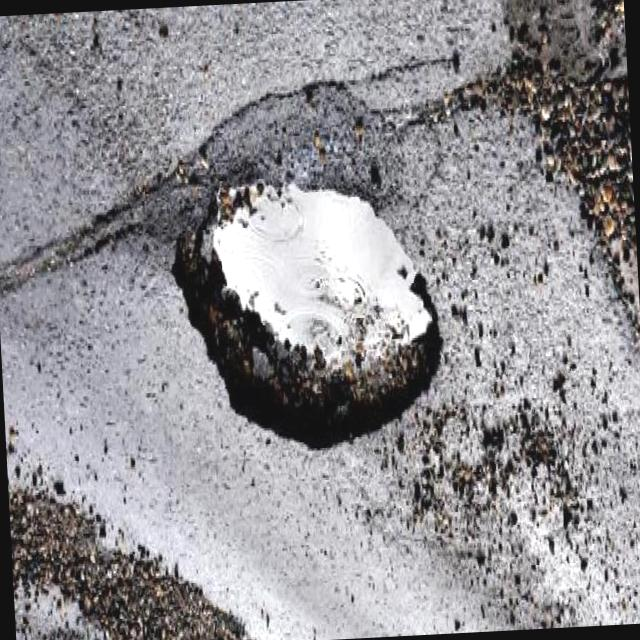pothole: (162, 172, 454, 469)
